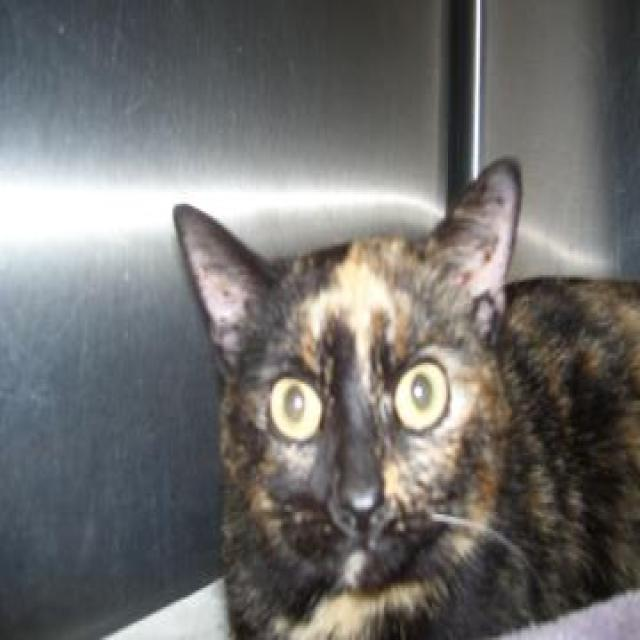Cats: (171, 154, 638, 638)
